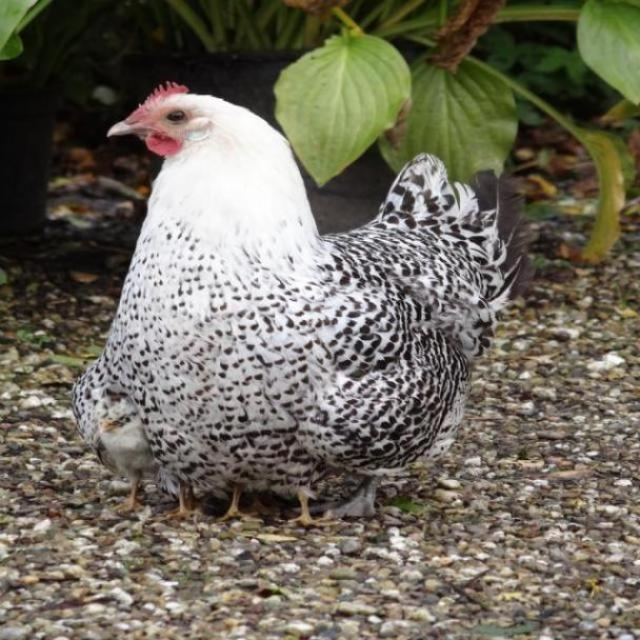Chicken: (65, 98, 521, 540)
